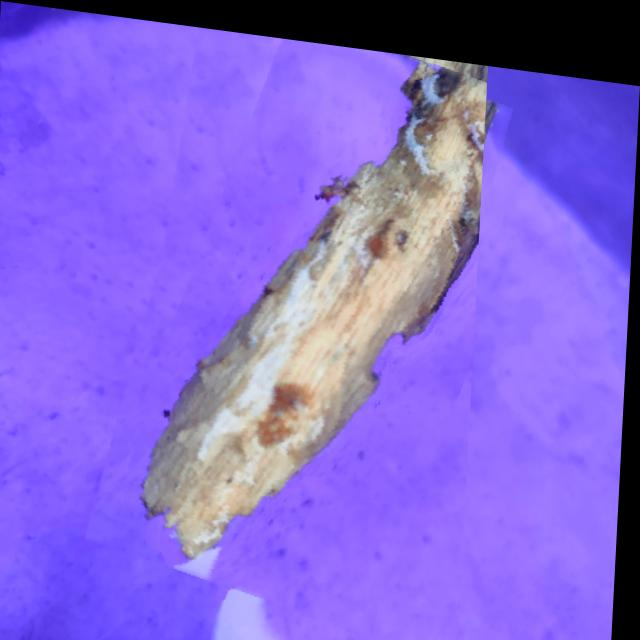wood: (115, 15, 487, 623)
